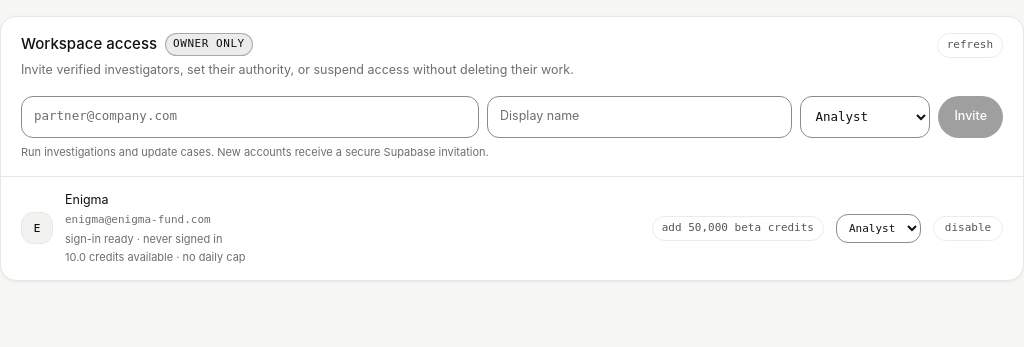
Scenario: TeamAccess invitation recovery › shows an analyst budget and adds a confirmed beta grant
The width and height of the screenshot is (1024, 347).
Click the button "add 50,000 beta credits" at (738, 228), box [652,216,824,241]
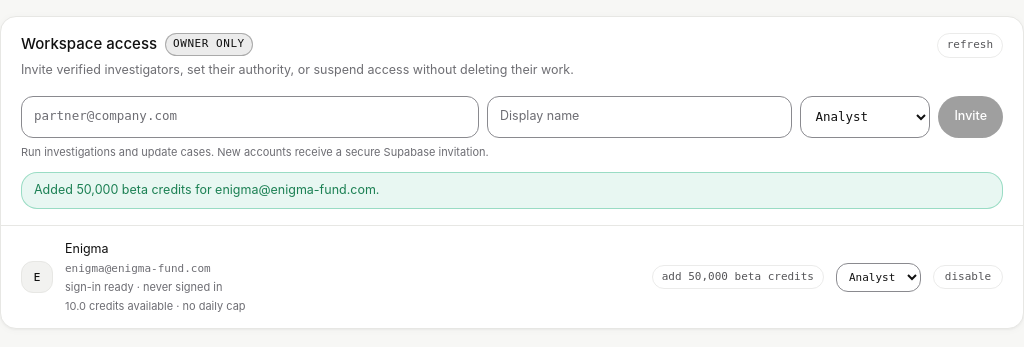
Expected: the text "Added 50,000 beta credits" is shown, [34,182,380,197]
